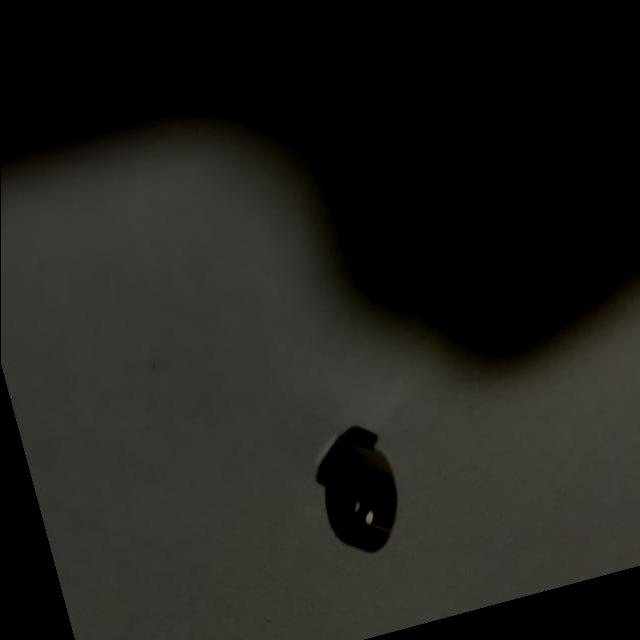COIN: (308, 427, 412, 563)
